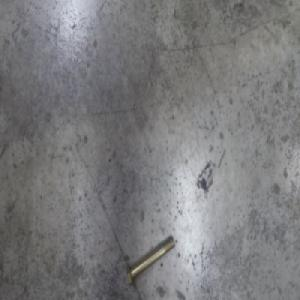Bolt: (125, 234, 175, 291)
